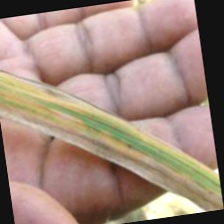Leaf_Blast: (0, 45, 191, 201)
